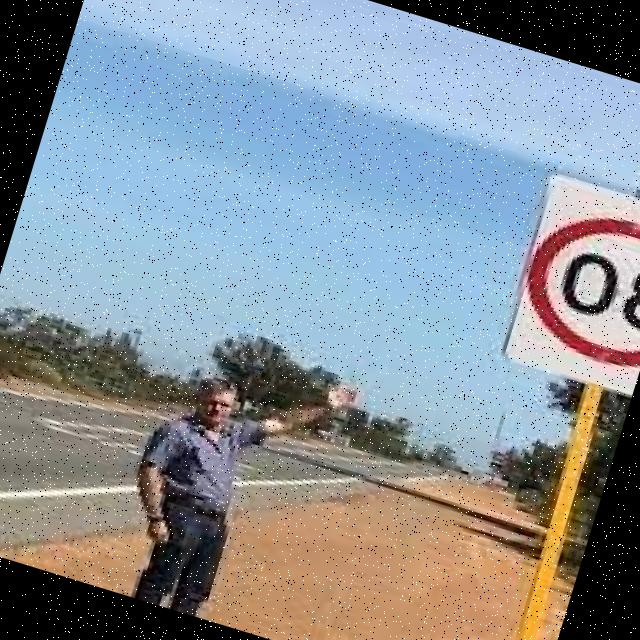speed_limit_80: (505, 191, 640, 376)
